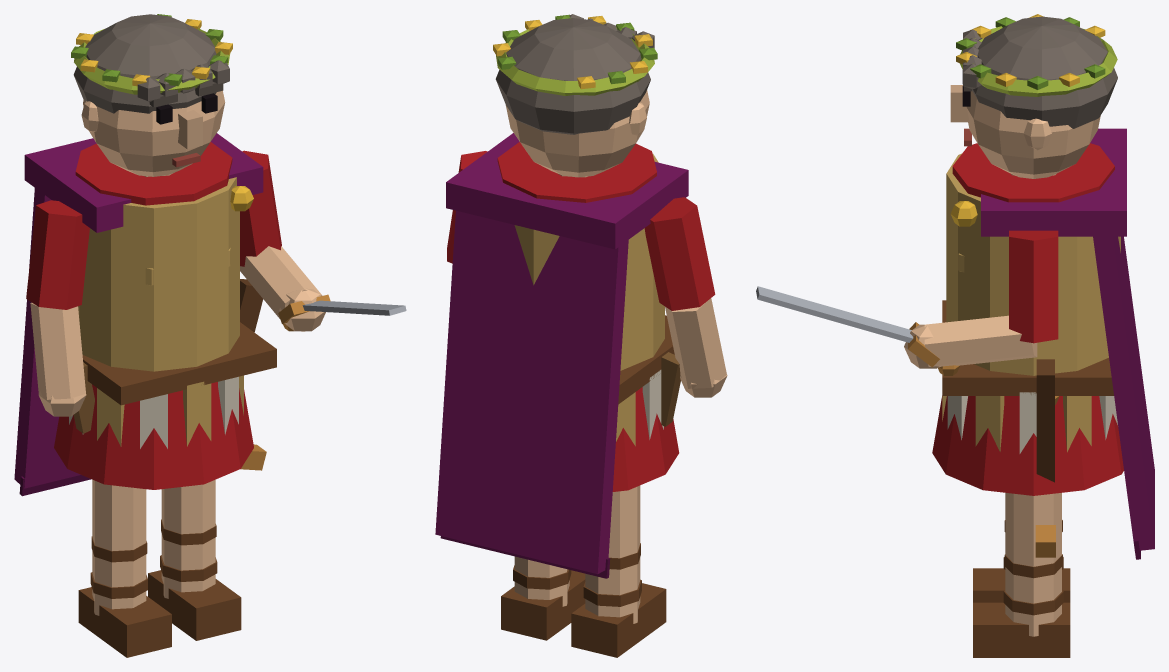
The model's file is trajan.glb.
3 renders of one model, left to right at view 1: azimuth 30°, elevation 25°; view 2: azimuth 150°, elevation 25°; view 3: azimuth 270°, elevation 25°, orthographic.
Visible parts, largest first — view 1: cialo, glowa, noga_l, reka_l, noga_p, reka_p, peleryna; view 2: peleryna, cialo, glowa, reka_l, noga_l, noga_p, reka_p; view 3: cialo, glowa, reka_p, noga_p, peleryna, noga_l.
Boxes of the visible parts, x1,y1,x2,y2 form: cialo: (24, 133, 276, 489); glowa: (71, 14, 232, 176); noga_l: (78, 479, 171, 657); reka_l: (26, 200, 89, 416); noga_p: (148, 479, 241, 640); reka_p: (240, 150, 406, 331); peleryna: (14, 188, 90, 496); peleryna: (435, 210, 628, 578); cialo: (446, 133, 688, 491); glowa: (493, 14, 657, 177); reka_l: (644, 197, 727, 397); noga_l: (571, 485, 666, 657); noga_p: (501, 556, 585, 640); reka_p: (447, 151, 487, 263); cialo: (932, 128, 1126, 557); glowa: (950, 14, 1117, 178); reka_p: (756, 230, 1058, 375); noga_p: (973, 492, 1070, 657); peleryna: (1093, 236, 1154, 559); noga_l: (973, 520, 1070, 602).
Bounding box in the file's own units: 0.7352 × 1.64 × 0.9829.
